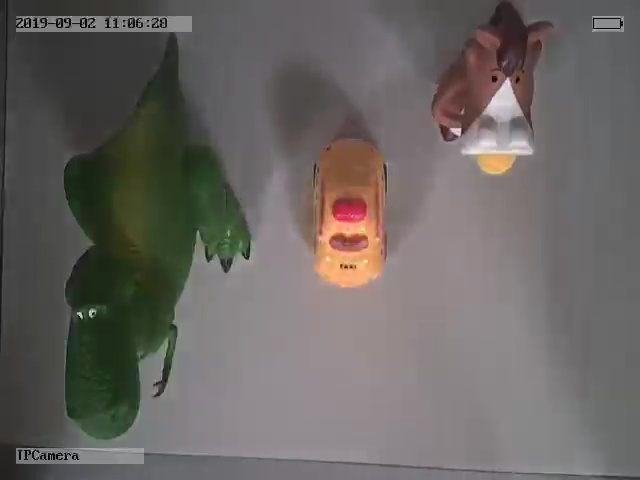car: (310, 132, 390, 292)
horse: (430, 3, 555, 175)
rex: (62, 44, 254, 440)
